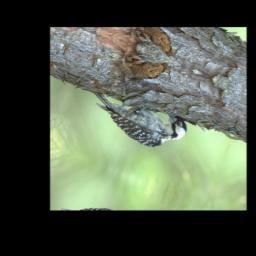Woodpecker: (84, 83, 190, 161)
